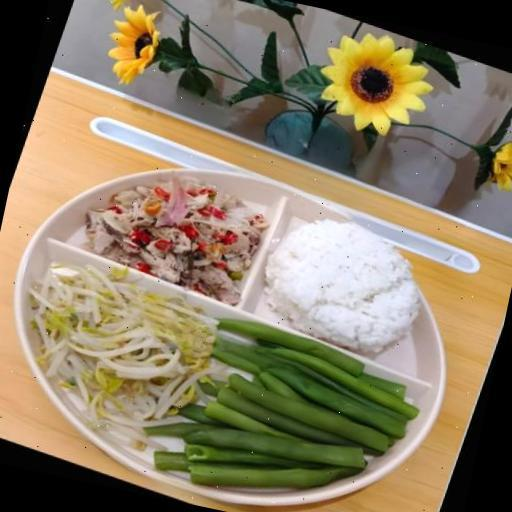buncis_rebus: (153, 300, 442, 512)
nasi_putih: (238, 188, 460, 374)
